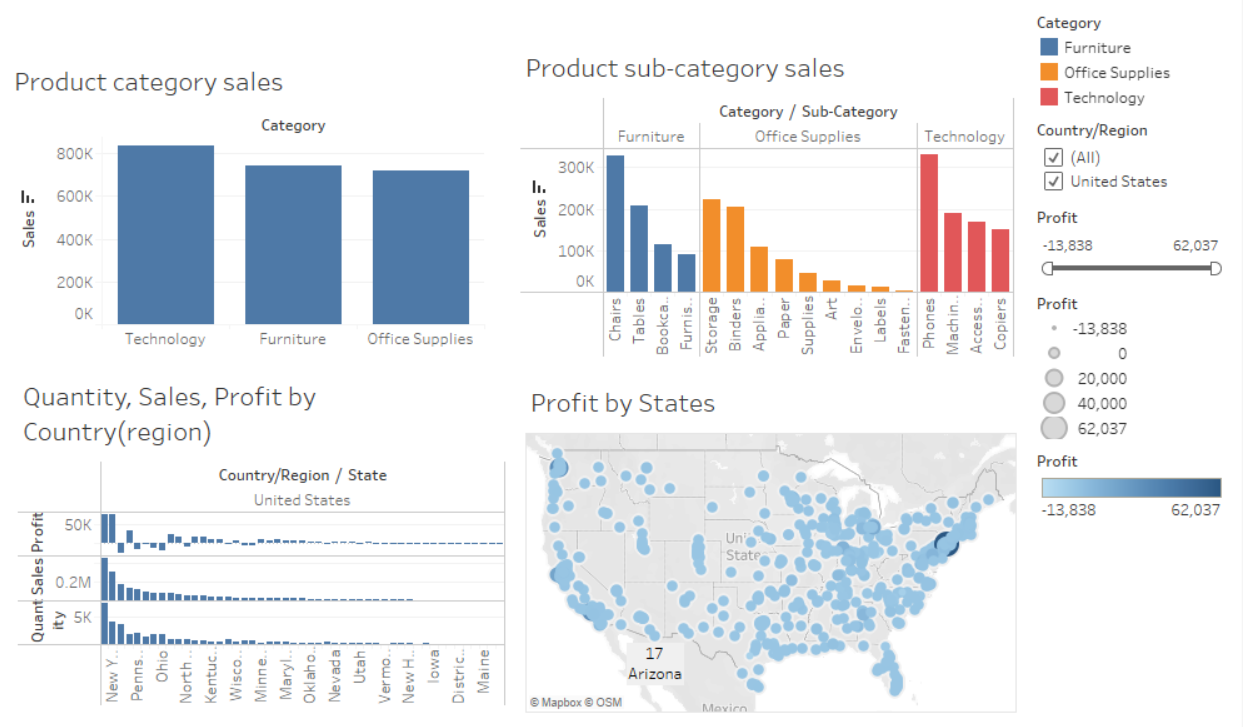

This screenshot's page, from the dashboard's own definition file:
{"tool":"tableau","page":{"name":"Dashboard 1","canvas":[1100,600],"ordinal":0},"visuals":[{"type":"legend","title":"Product sub-category sales","param":"[federated.1cumdsb0vmaosa1ese9pj117z9xu].[none:Category:nk]","box":[932,8,160,93]},{"type":"worksheet","title":"Product sub-category sales","mark":"Automatic","rows":["Sales"],"cols":["Category","Sub-Category"],"box":[465.3,28.5,434.5,189]},{"type":"worksheet","title":"Product category sales","mark":"Automatic","rows":["Sales"],"cols":["Category"],"box":[15.4,36.8,434.5,175.5]},{"type":"filter","title":"Profit by States","param":"[federated.1cumdsb0vmaosa1ese9pj117z9xu].[none:Country/Region:nk]","box":[932,101,160,82]},{"type":"filter","title":"Profit by States","param":"[federated.1cumdsb0vmaosa1ese9pj117z9xu].[sum:Profit:qk]","box":[932,183,160,73]},{"type":"worksheet","title":"Quantity, Sales, Profit by Country(region)","mark":"Automatic","rows":["Profit","Sales","Quantity"],"cols":["Country/Region","State"],"box":[23.1,225.8,429,200.2]},{"type":"worksheet","title":"Profit by States","mark":"Automatic","box":[469.7,229.5,432.3,200.2]},{"type":"legend","title":"Profit by States","param":"[federated.1cumdsb0vmaosa1ese9pj117z9xu].[sum:Profit:qk]","box":[932,256,160,135]},{"type":"legend","title":"Profit by States","param":"[federated.1cumdsb0vmaosa1ese9pj117z9xu].[sum:Profit:qk]","box":[932,391,160,73]}]}

Visuals, with their boxes on the page's 1100x600 design canvas (x1, y1, x2, y2). These are canvas units, not pixel positions in the 1243x727 screenshot, which may show the page scaled, cropped or inside an application window:
"Product sub-category sales" legend: 932,8,1092,101
"Product sub-category sales" worksheet: 465,28,900,218
"Product category sales" worksheet: 15,37,450,212
"Profit by States" filter: 932,101,1092,183
"Profit by States" filter: 932,183,1092,256
"Quantity, Sales, Profit by Country(region)" worksheet: 23,226,452,426
"Profit by States" worksheet: 470,230,902,430
"Profit by States" legend: 932,256,1092,391
"Profit by States" legend: 932,391,1092,464
